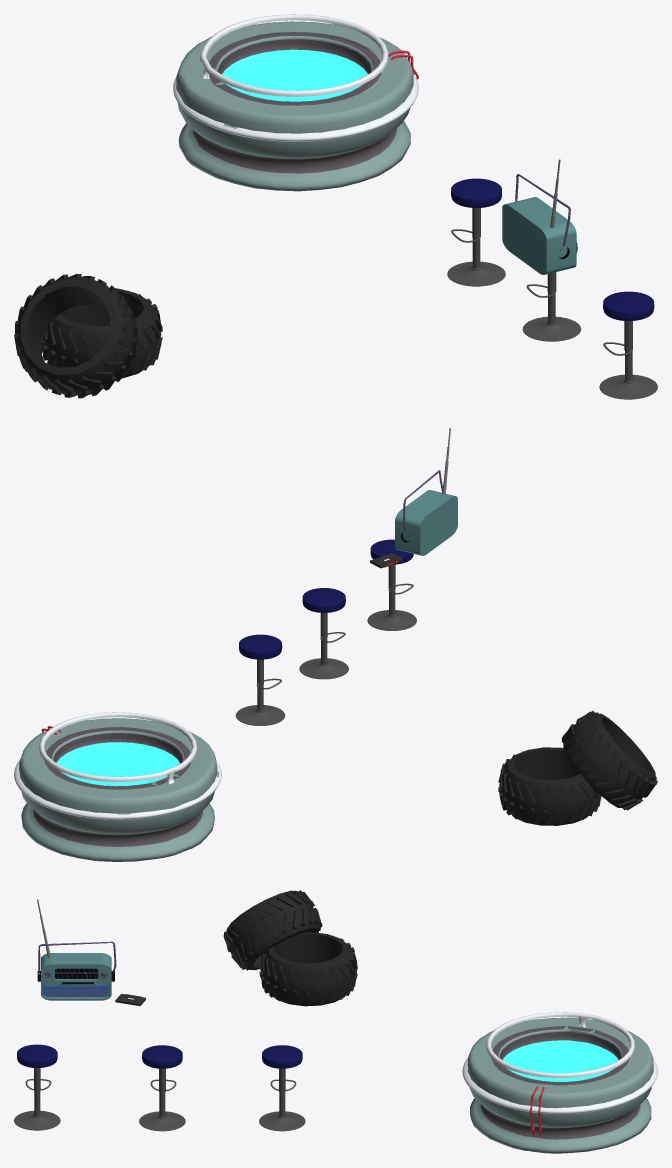
The model's file is compressed_Decors2.glb.
The picture shows the model from 3 angles, top to bottom: view 1: azimuth 30°, elevation 25°; view 2: azimuth 150°, elevation 25°; view 3: azimuth 270°, elevation 25°; orthographic projection. The views are drawn at different scales.
Parts seen in each view (by area): view 1: HologramBase, Debris_Tires, radio, Stool2, Stool2.002, Stool2.001; view 2: HologramBase, Debris_Tires, radio, Stool2.001, Stool2, Stool2.002; view 3: HologramBase, Debris_Tires, radio, Stool2.001, Stool2.002, Stool2.
Part boxes in pixels (bbox=[...]): HologramBase: bbox=[173, 14, 418, 191]; Debris_Tires: bbox=[14, 274, 162, 398]; radio: bbox=[502, 159, 576, 274]; Stool2: bbox=[447, 178, 505, 286]; Stool2.002: bbox=[599, 291, 657, 399]; Stool2.001: bbox=[522, 242, 581, 341]; HologramBase: bbox=[14, 712, 221, 861]; Debris_Tires: bbox=[498, 711, 657, 825]; radio: bbox=[395, 428, 457, 555]; Stool2.001: bbox=[299, 588, 348, 679]; Stool2: bbox=[235, 634, 285, 725]; Stool2.002: bbox=[367, 539, 416, 630]; HologramBase: bbox=[462, 1012, 657, 1153]; Debris_Tires: bbox=[223, 890, 357, 1006]; radio: bbox=[37, 899, 116, 1000]; Stool2.001: bbox=[139, 1045, 185, 1131]; Stool2.002: bbox=[14, 1044, 60, 1130]; Stool2: bbox=[259, 1045, 305, 1131].
Bounding box in the file's own units: 9.41 × 4.12 × 11.79.
